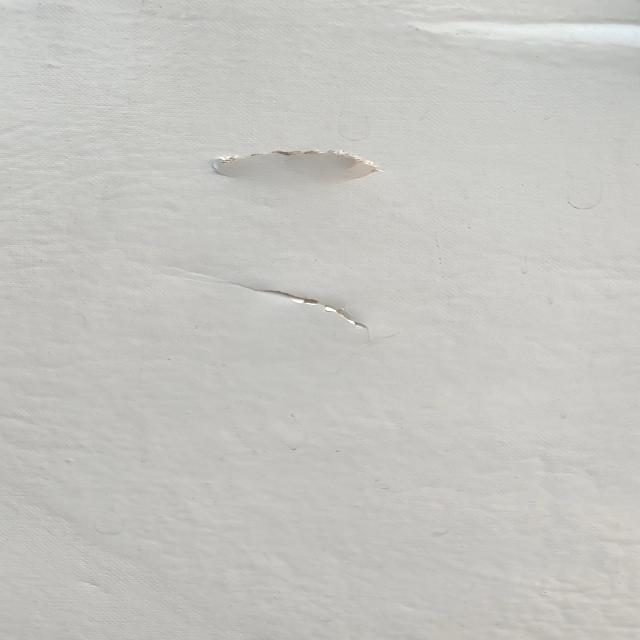Scratches: (185, 141, 417, 199), (248, 275, 404, 345)
